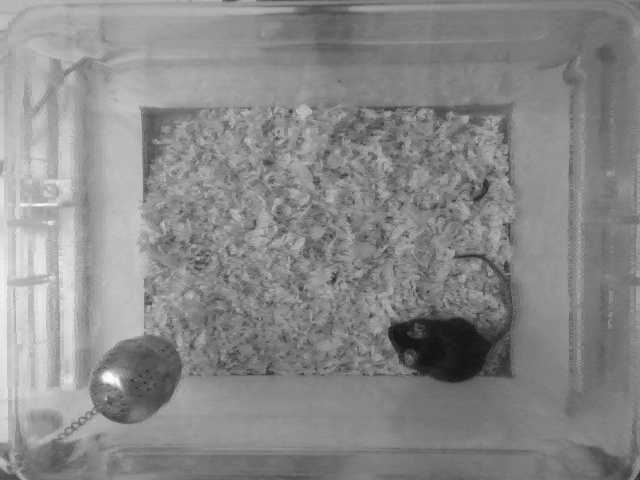mice: (383, 254, 513, 385)
